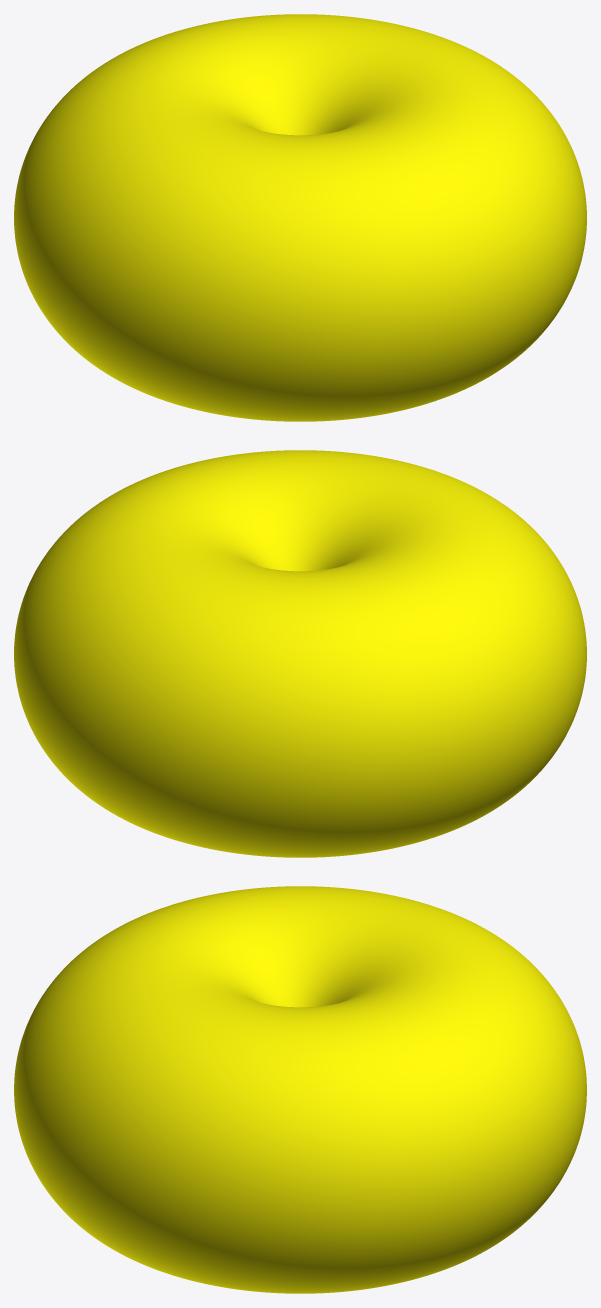
File: Asset 1.gltf
The picture shows the model from 3 angles, top to bottom: view 1: azimuth 30°, elevation 25°; view 2: azimuth 150°, elevation 25°; view 3: azimuth 270°, elevation 25°; orthographic projection.
Size of the model in its own units: 0.304 by 0.152 by 0.304.
